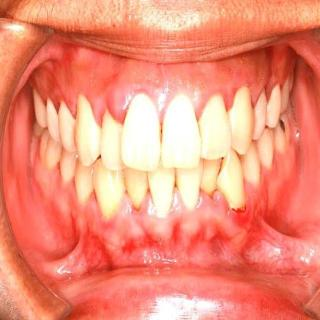Gum Swelling: (83, 187, 242, 248), (91, 72, 247, 128)
cavities: (274, 115, 295, 143)
maligned: (217, 148, 244, 214), (202, 152, 220, 205)
plaque: (107, 121, 131, 165), (221, 106, 237, 140)
stains: (151, 119, 173, 156)
